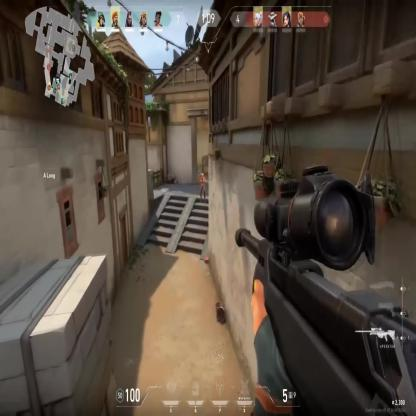enemy: (198, 172, 206, 203)
enemy_head: (200, 172, 204, 180)
